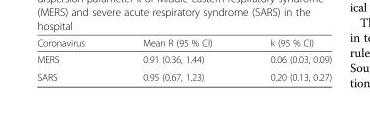table: (36, 36, 331, 82)
table column: (113, 36, 240, 82), (240, 36, 331, 82), (36, 36, 113, 82)
table column header: (36, 36, 331, 50)
table row: (36, 50, 331, 67), (36, 67, 331, 82), (36, 36, 331, 50)
